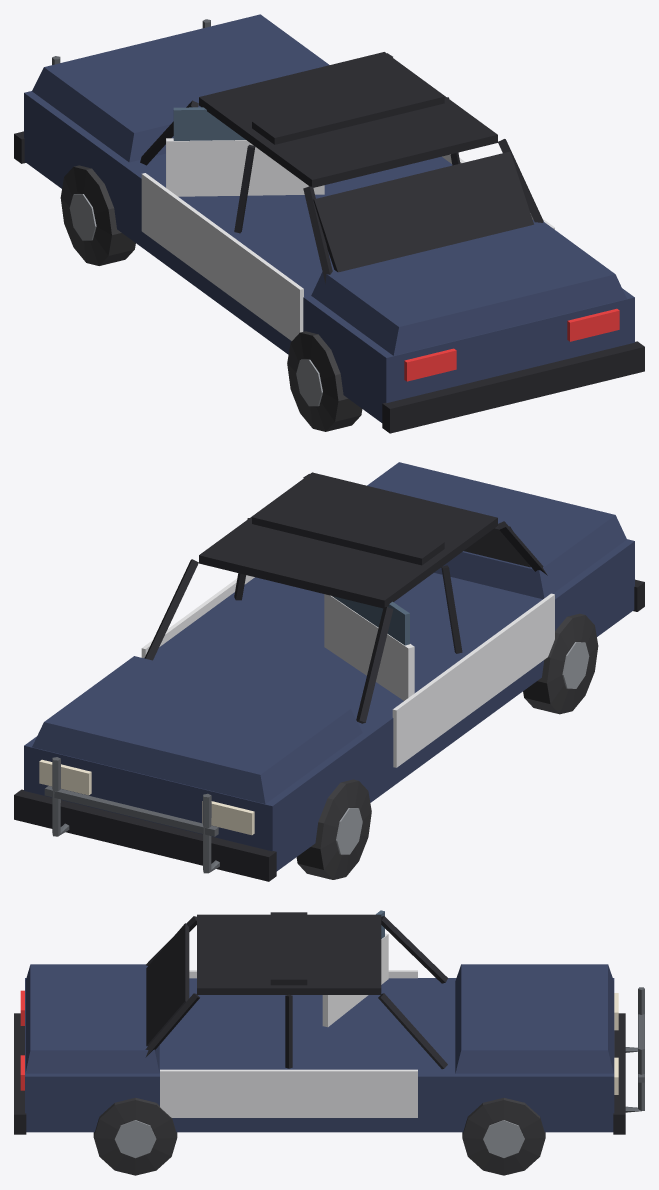
The model's file is CruiserOpen.obj.
3 views of the same model, one above another, from view 1: azimuth 30°, elevation 25°; view 2: azimuth 150°, elevation 25°; view 3: azimuth 270°, elevation 25° (orthographic). The views are drawn at different scales.
Parts seen in each view (by area): view 1: CruiserOpen; view 2: CruiserOpen; view 3: CruiserOpen.
Boxes of the visible parts, <box> form: CruiserOpen: <box>14,14,644,433</box>; CruiserOpen: <box>14,462,644,881</box>; CruiserOpen: <box>14,910,644,1175</box>.
Size of the model in its own units: 2.05 by 1.6 by 5.14.
Materials: 1 (1 with a texture image).
